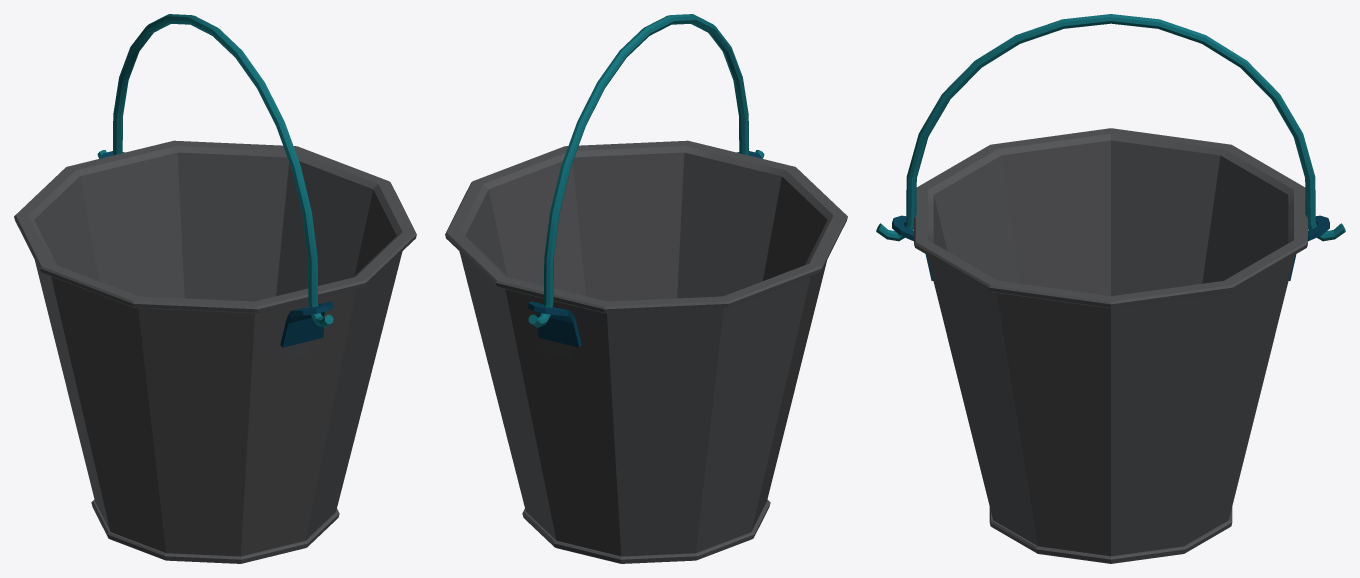
Rendered from BaldeRoto.fbx.
3 renders of one model, left to right at view 1: azimuth 30°, elevation 25°; view 2: azimuth 150°, elevation 25°; view 3: azimuth 270°, elevation 25°, orthographic. The views are drawn at different scales.
Visible parts, largest first — view 1: BaldeRotoDer, BaldeRotoIzq, ManijaRota; view 2: BaldeRotoIzq, BaldeRotoDer, ManijaRota; view 3: BaldeRotoIzq, BaldeRotoDer, ManijaRota.
Part boxes in pixels (bbox=[...]): BaldeRotoDer: bbox=[40, 181, 416, 563]; BaldeRotoIzq: bbox=[14, 140, 388, 536]; ManijaRota: bbox=[97, 14, 333, 327]; BaldeRotoIzq: bbox=[445, 181, 821, 563]; BaldeRotoDer: bbox=[473, 140, 847, 536]; ManijaRota: bbox=[528, 14, 764, 327]; BaldeRotoIzq: bbox=[1111, 128, 1329, 563]; BaldeRotoDer: bbox=[892, 128, 1110, 563]; ManijaRota: bbox=[876, 14, 1345, 241].
Size of the model in its own units: 23.97 by 31.74 by 27.19.
